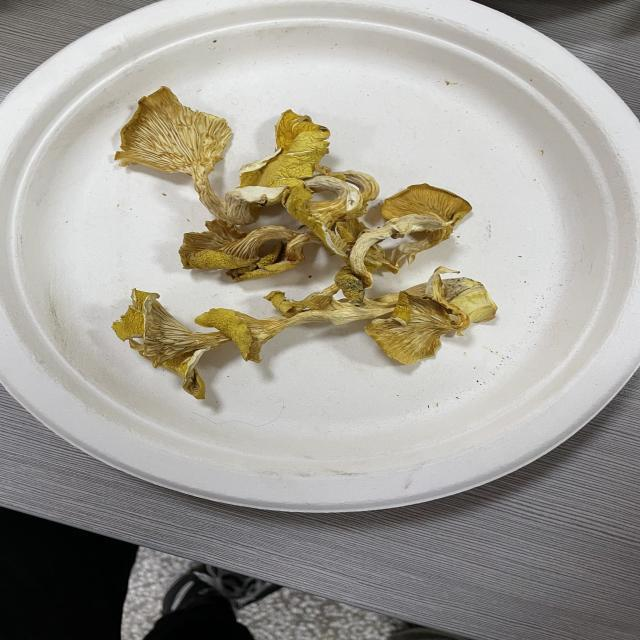Pleurotus citrinopileatus: (117, 107, 532, 405)
